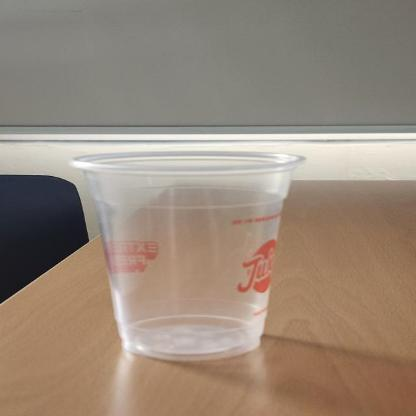Plastic Cup: (70, 149, 310, 361)
